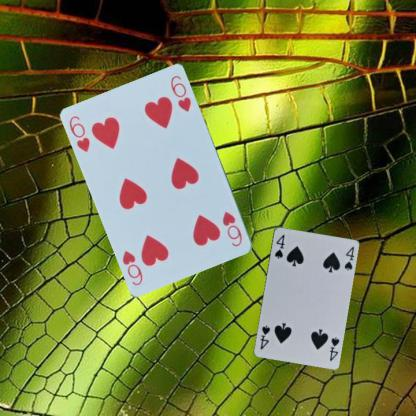4s: (272, 231, 286, 260), (327, 334, 340, 362)
6h: (66, 113, 92, 154), (220, 209, 244, 249)
